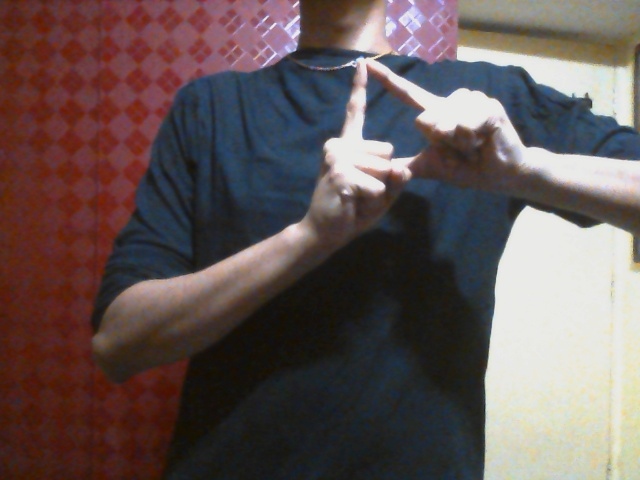D: (305, 57, 531, 243)
